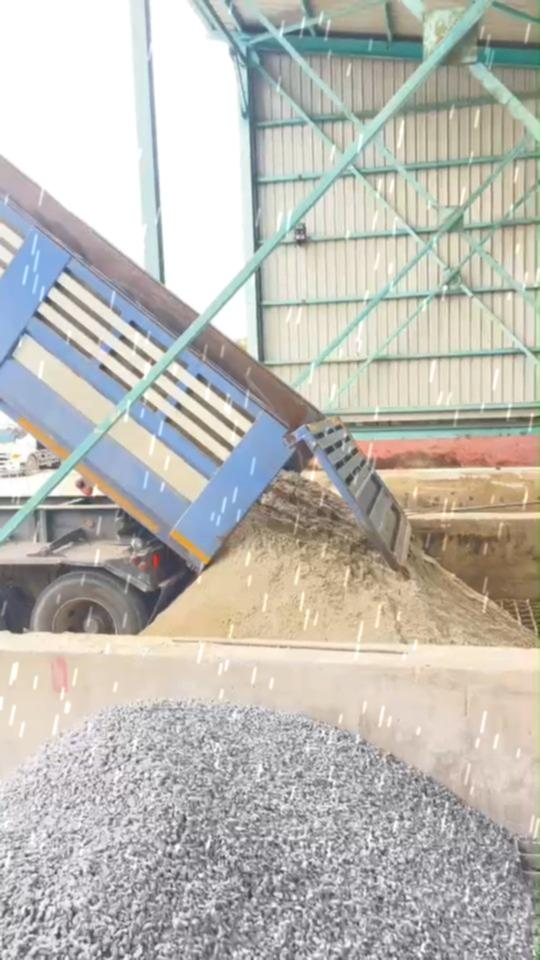gravel: (1, 702, 534, 959)
sand: (145, 473, 535, 646)
